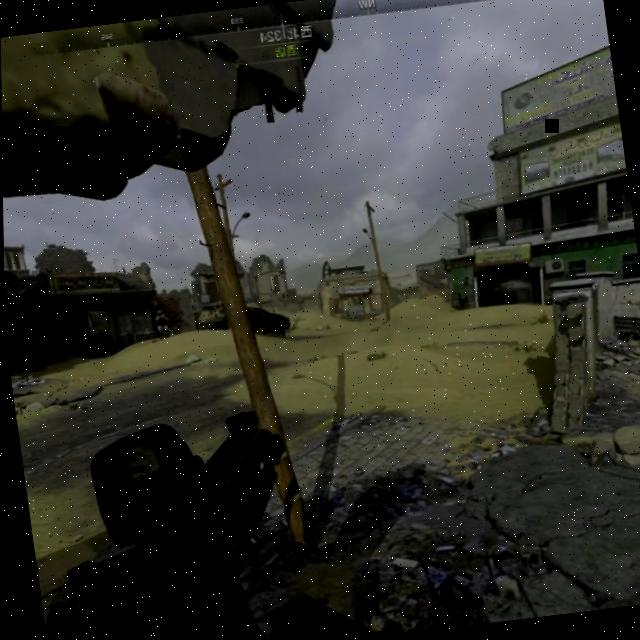MW2_body: (152, 308, 170, 341)
